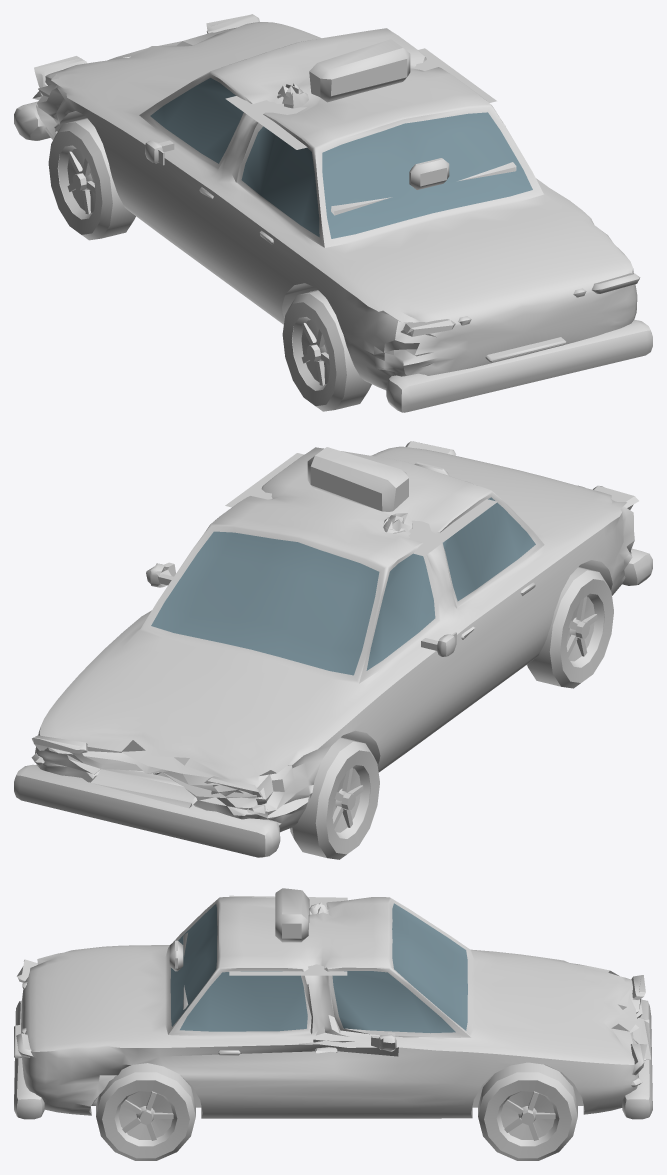
Rendered from car_taxi_dmg2.glb.
The picture shows the model from 3 angles, top to bottom: view 1: azimuth 30°, elevation 25°; view 2: azimuth 150°, elevation 25°; view 3: azimuth 270°, elevation 25°; orthographic projection. The views are drawn at different scales.
Visible parts, largest first — view 1: car_taxi_dmg2; view 2: car_taxi_dmg2; view 3: car_taxi_dmg2.
Part boxes in pixels (<box>): car_taxi_dmg2: <box>14,14,652,412</box>; car_taxi_dmg2: <box>14,441,652,859</box>; car_taxi_dmg2: <box>14,888,652,1160</box>.
Bounding box in the file's own units: 2.06 × 1.66 × 4.6.
